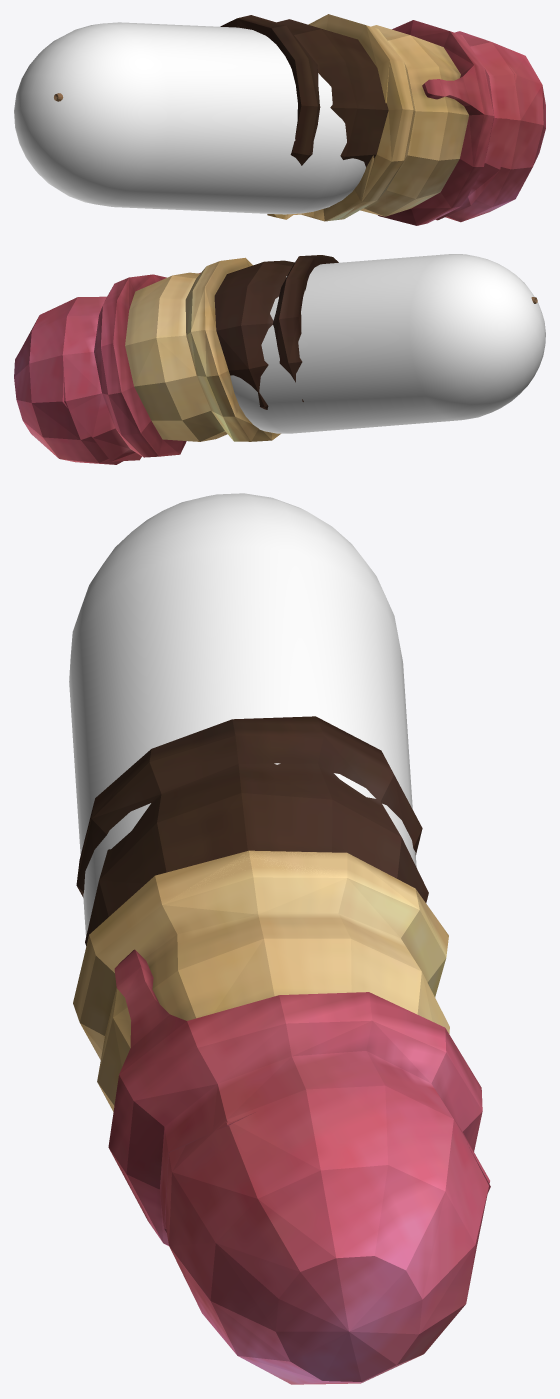
The model's file is WaffleConeIceCreamAnchor.fbx.
3 renders of one model, top to bottom at view 1: azimuth 30°, elevation 25°; view 2: azimuth 150°, elevation 25°; view 3: azimuth 270°, elevation 25°, orthographic. The views are drawn at different scales.
Parts seen in each view (by area): view 1: IceCreamInteractionPoint, IceCreamCone_Bite00, IceCreamCone_Bite01, IceCreamCone_Bite02; view 2: IceCreamCone_Bite00, IceCreamInteractionPoint, IceCreamCone_Bite01; view 3: IceCreamCone_Bite00, IceCreamInteractionPoint, IceCreamCone_Bite01.
Part boxes in pixels (x1,y1,x2,y2): IceCreamInteractionPoint: (14, 22, 365, 214); IceCreamCone_Bite00: (54, 14, 545, 225); IceCreamCone_Bite01: (435, 65, 516, 220); IceCreamCone_Bite02: (325, 60, 389, 221); IceCreamCone_Bite00: (14, 255, 537, 464); IceCreamInteractionPoint: (230, 254, 545, 433); IceCreamCone_Bite01: (62, 352, 141, 461); IceCreamCone_Bite00: (73, 716, 489, 1384); IceCreamInteractionPoint: (69, 493, 416, 936); IceCreamCone_Bite01: (159, 1084, 490, 1232).
Bounding box in the file's own units: 23.6 × 12.11 × 8.79.
